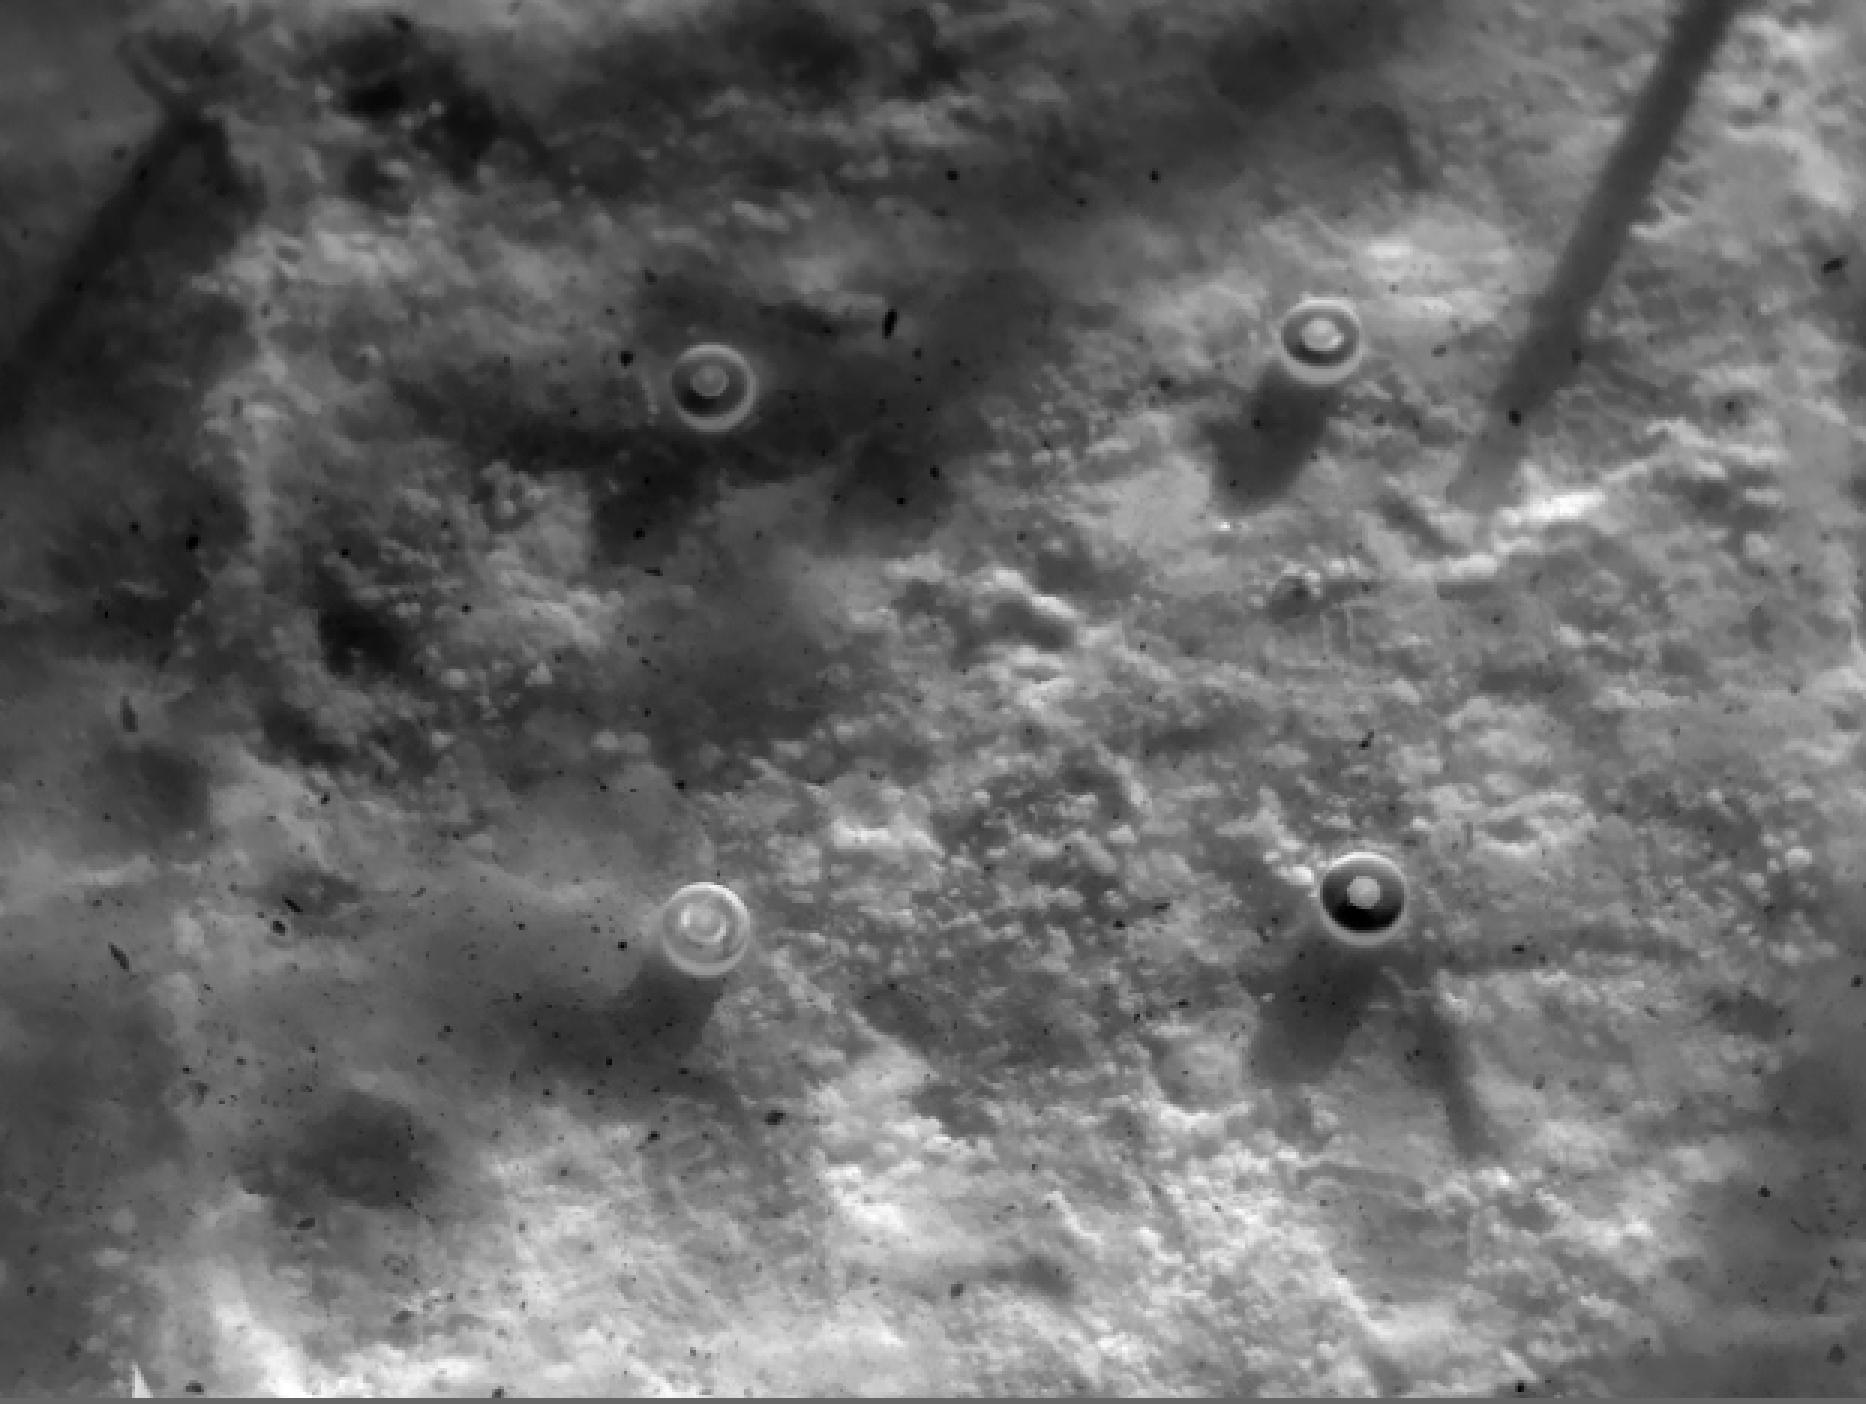mines-gjV8: (1314, 848, 1429, 962), (665, 877, 757, 975), (1282, 302, 1379, 389), (676, 342, 757, 432)
